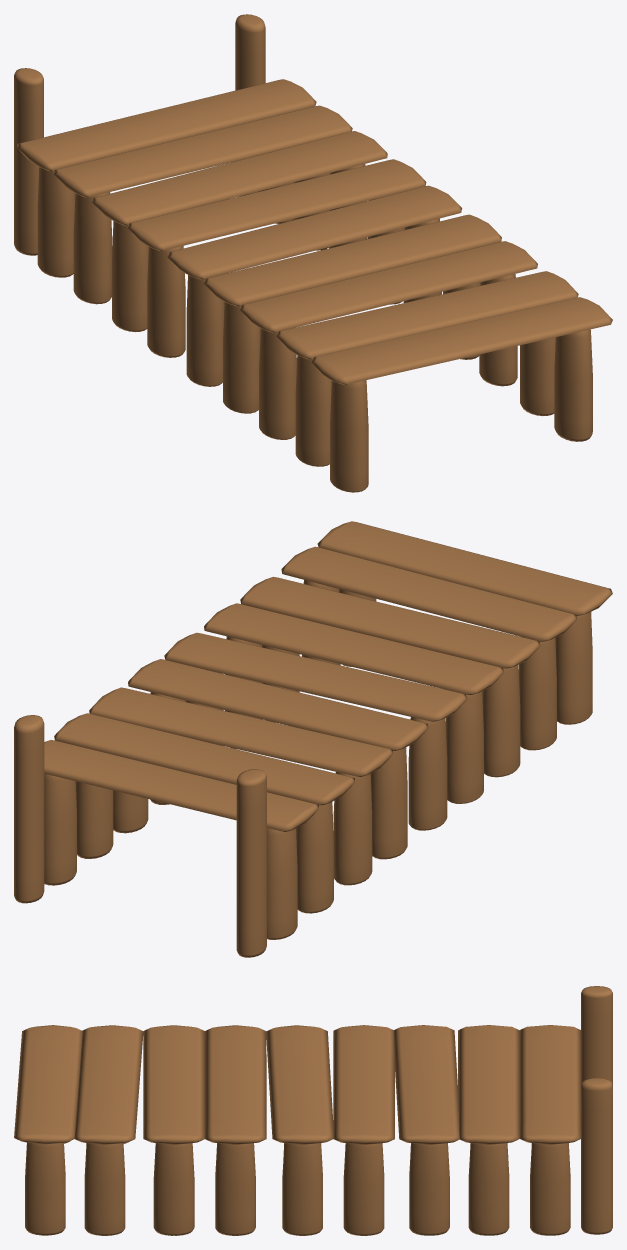
Rendered from Dock 1.fbx.
3 renders of one model, top to bottom at view 1: azimuth 30°, elevation 25°; view 2: azimuth 150°, elevation 25°; view 3: azimuth 270°, elevation 25°, orthographic. The views are drawn at different scales.
Parts seen in each view (by area): view 1: Dock; view 2: Dock; view 3: Dock.
Part boxes in pixels (x1=…): Dock: x1=14, y1=14, x2=612, y2=492; Dock: x1=14, y1=521, x2=612, y2=957; Dock: x1=14, y1=986, x2=612, y2=1235.
Size of the model in its own units: 398 by 244 by 882.
